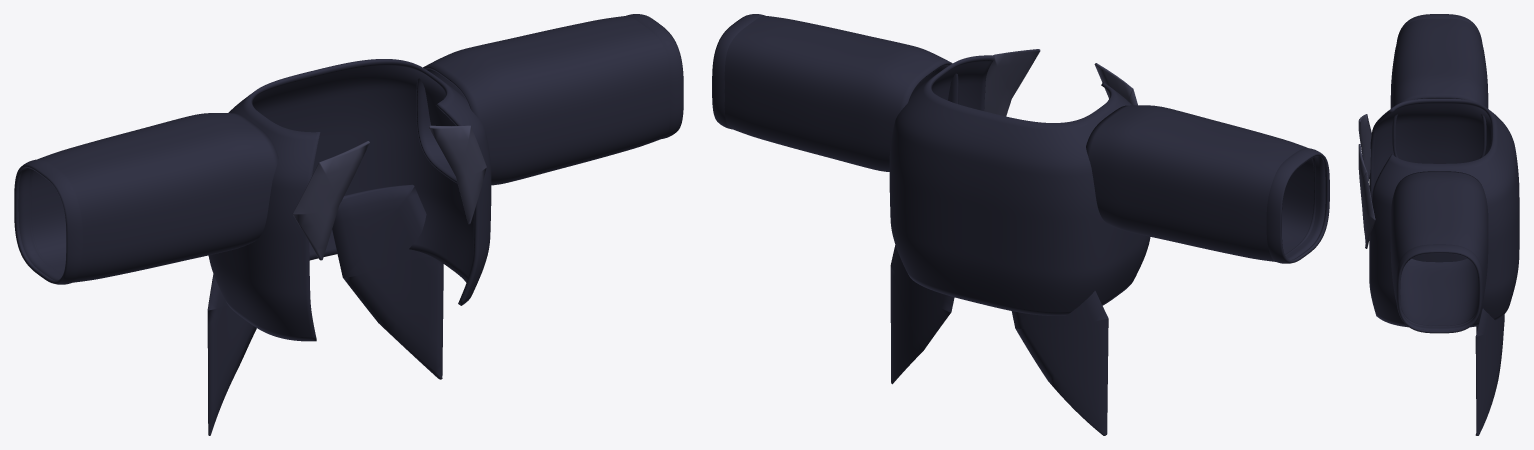
File: butler_tailcoat.glb
The picture shows the model from 3 angles, left to right: view 1: azimuth 30°, elevation 25°; view 2: azimuth 150°, elevation 25°; view 3: azimuth 270°, elevation 25°; orthographic projection. The views are drawn at different scales.
Parts seen in each view (by area): view 1: butler_tailcoat__body, butler_tailcoat__sleeve_r, butler_tailcoat__sleeve_l, butler_tailcoat__tail_l, butler_tailcoat__lapel_r, butler_tailcoat__tail_r, butler_tailcoat__cuff_r, butler_tailcoat__lapel_l, butler_tailcoat__cuff_l; view 2: butler_tailcoat__body, butler_tailcoat__sleeve_r, butler_tailcoat__sleeve_l, butler_tailcoat__tail_r, butler_tailcoat__tail_l, butler_tailcoat__cuff_r, butler_tailcoat__lapel_l, butler_tailcoat__cuff_l, butler_tailcoat__lapel_r; view 3: butler_tailcoat__body, butler_tailcoat__sleeve_l, butler_tailcoat__sleeve_r, butler_tailcoat__tail_l, butler_tailcoat__cuff_l, butler_tailcoat__lapel_l, butler_tailcoat__lapel_r, butler_tailcoat__cuff_r.
Boxes of the visible parts, x1,y1,x2,y2 form: butler_tailcoat__body: [208, 59, 491, 341]; butler_tailcoat__sleeve_r: [18, 113, 278, 282]; butler_tailcoat__sleeve_l: [416, 16, 669, 185]; butler_tailcoat__tail_l: [332, 184, 443, 379]; butler_tailcoat__lapel_r: [292, 141, 369, 260]; butler_tailcoat__tail_r: [207, 274, 256, 435]; butler_tailcoat__cuff_r: [14, 159, 82, 284]; butler_tailcoat__lapel_l: [429, 125, 486, 224]; butler_tailcoat__cuff_l: [626, 14, 683, 138]; butler_tailcoat__body: [889, 55, 1150, 315]; butler_tailcoat__sleeve_r: [1086, 105, 1325, 261]; butler_tailcoat__sleeve_l: [724, 15, 958, 171]; butler_tailcoat__tail_r: [1011, 291, 1108, 435]; butler_tailcoat__tail_l: [890, 245, 954, 384]; butler_tailcoat__cuff_r: [1266, 148, 1329, 263]; butler_tailcoat__lapel_l: [984, 49, 1040, 116]; butler_tailcoat__cuff_l: [712, 14, 764, 129]; butler_tailcoat__lapel_r: [1094, 63, 1137, 105]; butler_tailcoat__body: [1369, 98, 1519, 327]; butler_tailcoat__sleeve_l: [1390, 171, 1488, 330]; butler_tailcoat__sleeve_r: [1390, 18, 1488, 158]; butler_tailcoat__tail_l: [1475, 308, 1504, 435]; butler_tailcoat__cuff_l: [1396, 244, 1482, 333]; butler_tailcoat__lapel_l: [1358, 144, 1375, 248]; butler_tailcoat__lapel_r: [1358, 114, 1371, 180]; butler_tailcoat__cuff_r: [1396, 14, 1482, 42].
Size of the model in its own units: 3.05 by 1.58 by 0.8735.
